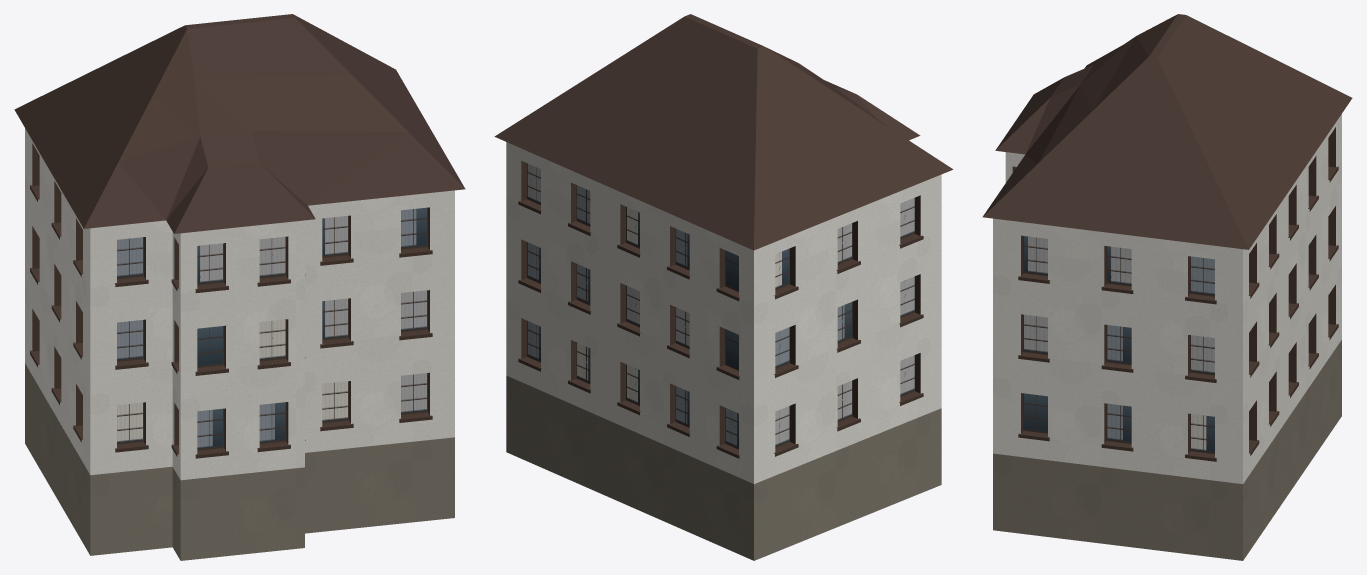
File: z4L_kalk_house.glb
The picture shows the model from 3 angles, left to right: view 1: azimuth 30°, elevation 25°; view 2: azimuth 150°, elevation 25°; view 3: azimuth 270°, elevation 25°; orthographic projection. The views are drawn at different scales.
Parts seen in each view (by area): view 1: z4L_kalk_house; view 2: z4L_kalk_house; view 3: z4L_kalk_house.
Boxes of the visible parts, x1,y1,x2,y2 form: z4L_kalk_house: (14,14,465,560); z4L_kalk_house: (494,14,953,560); z4L_kalk_house: (982,14,1352,560).
Size of the model in its own units: 15.47 by 17.08 by 13.11.
3 materials, 3 textured.
